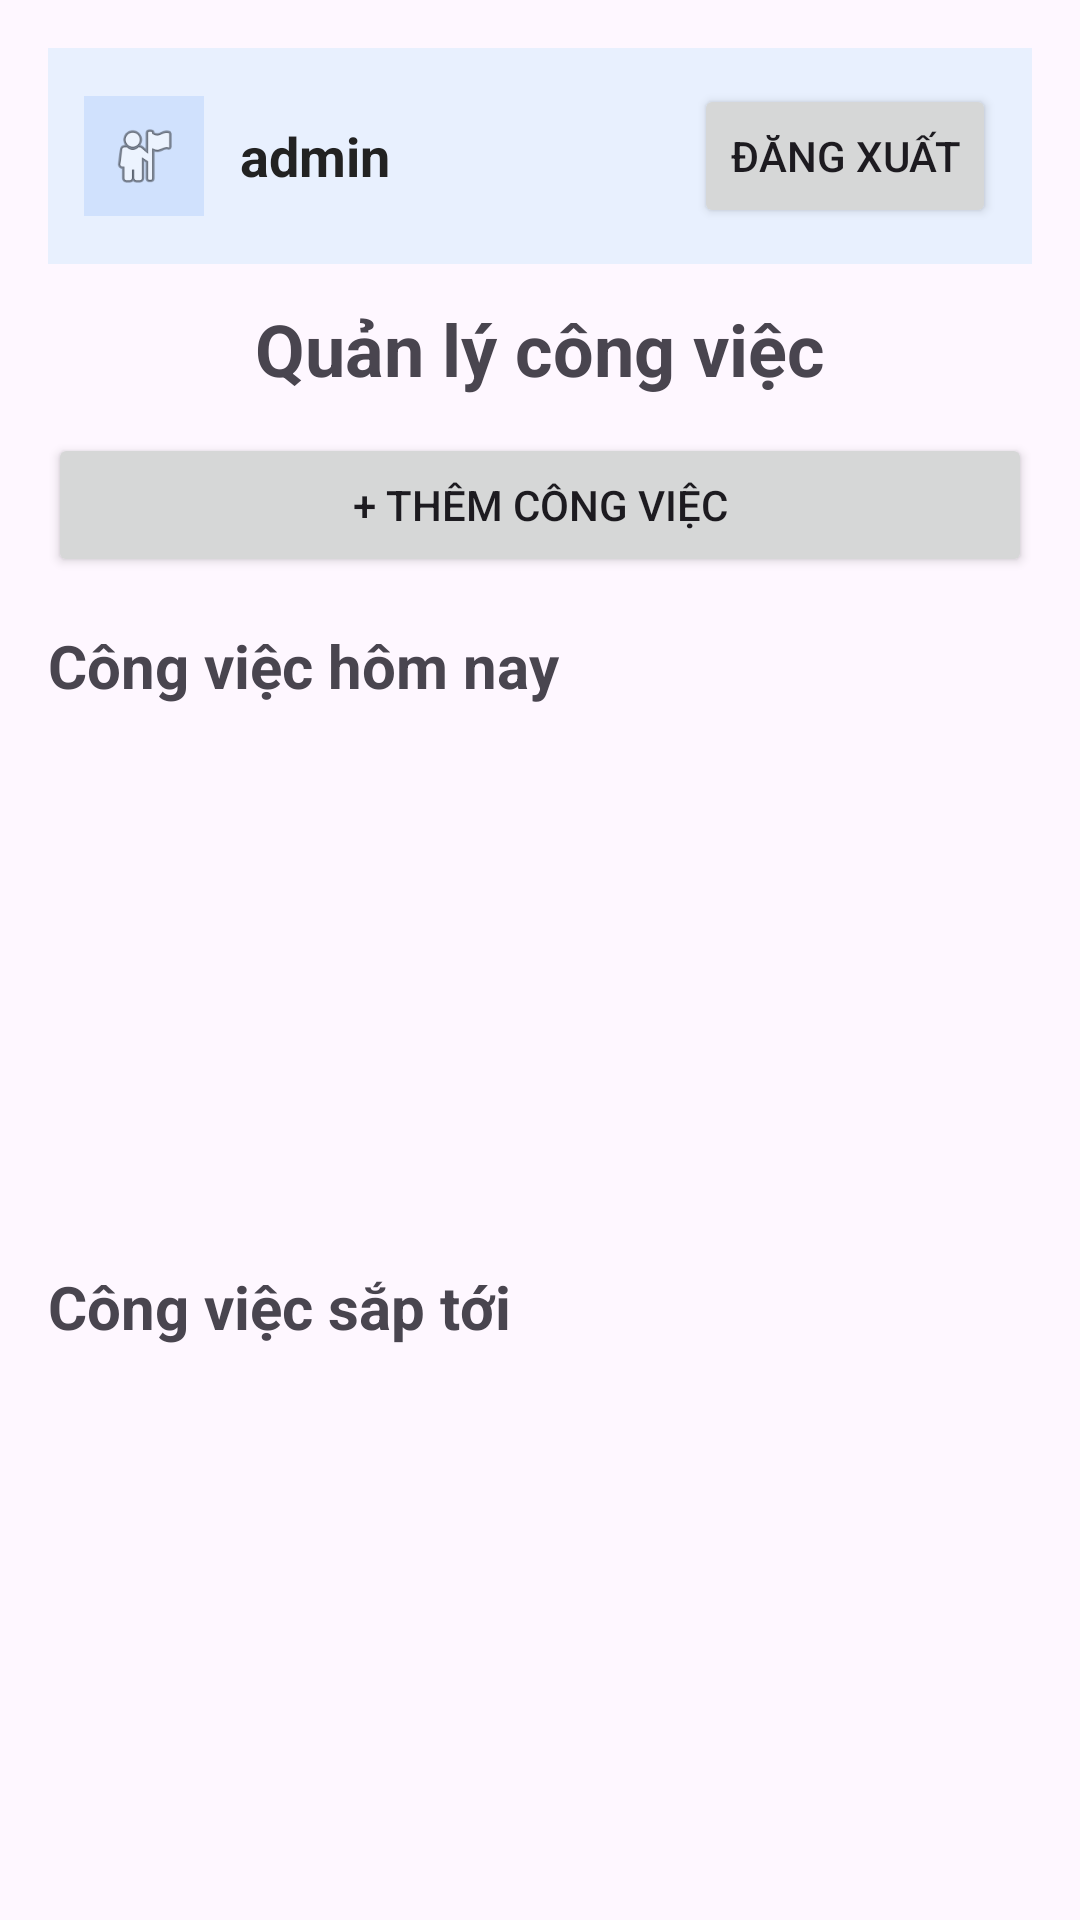

Icon click points for this 1080px x 1920px phone screenshot, format (x,y):
Avatar: (144,156)
